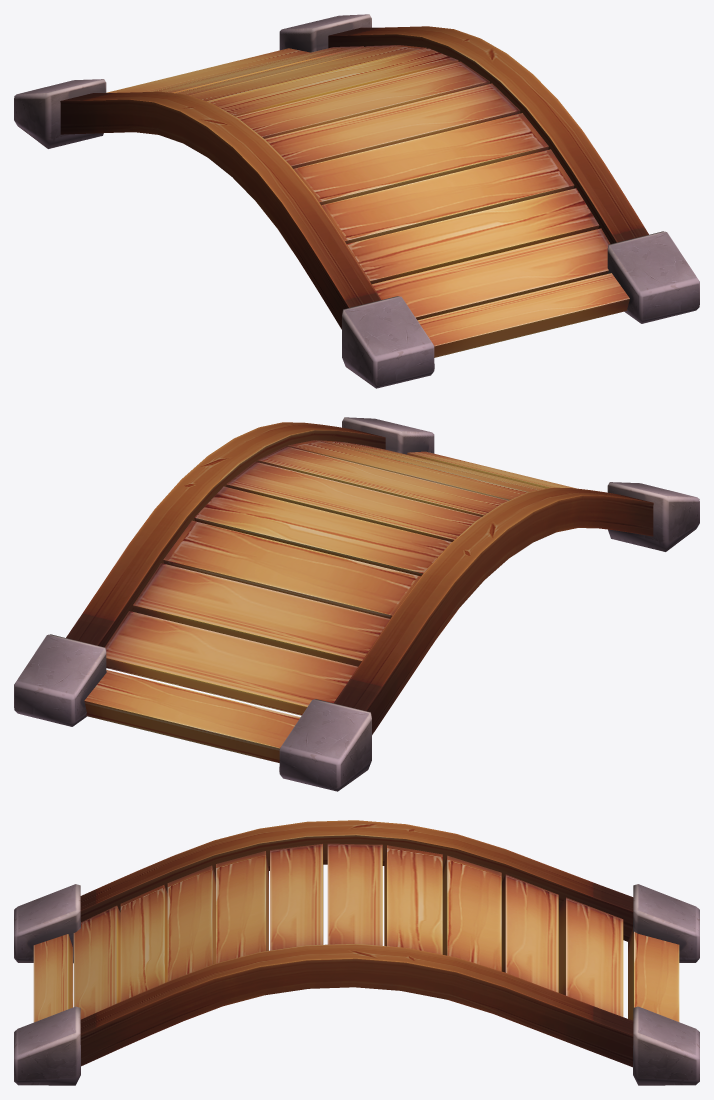
File: SE_Bridge_04.fbx
3 renders of one model, top to bottom at view 1: azimuth 30°, elevation 25°; view 2: azimuth 150°, elevation 25°; view 3: azimuth 270°, elevation 25°, orthographic. The views are drawn at different scales.
Visible parts, largest first — view 1: SE_Bridge_04; view 2: SE_Bridge_04; view 3: SE_Bridge_04.
Part boxes in pixels (x1,y1,x2,y2): SE_Bridge_04: (14,14,699,388); SE_Bridge_04: (14,417,699,791); SE_Bridge_04: (14,820,699,1085).
Size of the model in its own units: 6.01 by 2.27 by 11.55.
